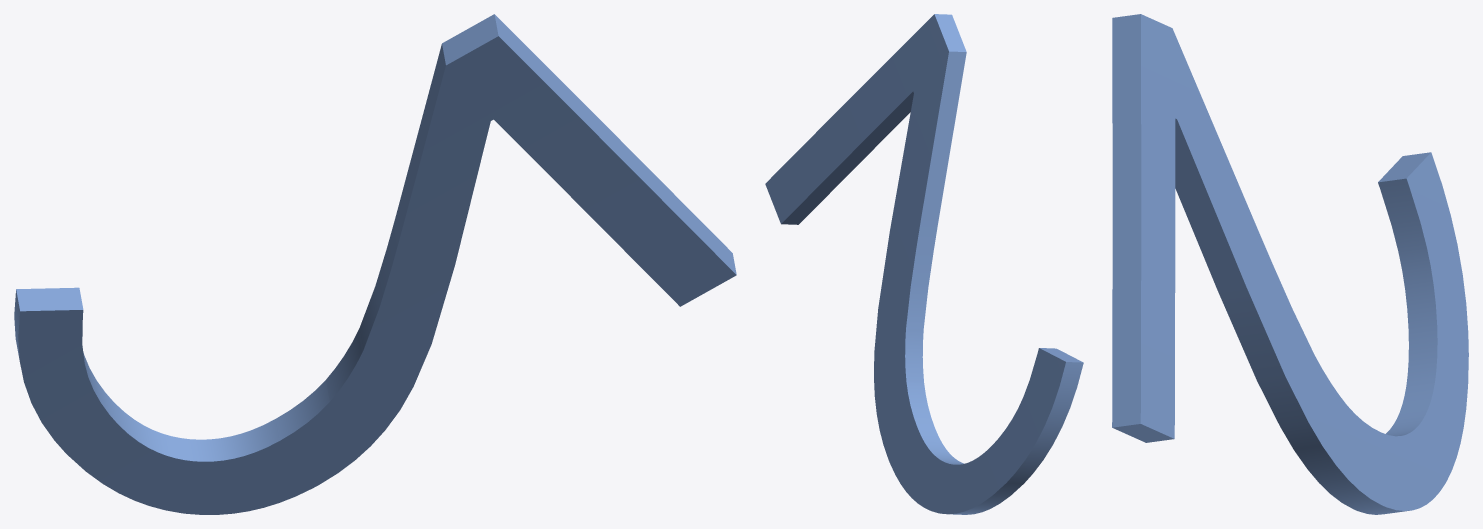
Rendered from New_Number_2.gltf.
The picture shows the model from 3 angles, left to right: view 1: azimuth 30°, elevation 25°; view 2: azimuth 150°, elevation 25°; view 3: azimuth 270°, elevation 25°; orthographic projection. The views are drawn at different scales.
Parts seen in each view (by area): view 1: Part 497; view 2: Part 497; view 3: Part 497.
Part boxes in pixels (x1,y1,x2,y2): Part 497: (14, 14, 736, 514); Part 497: (765, 14, 1083, 514); Part 497: (1112, 14, 1468, 514).
Size of the model in its own units: 0.00519 by 0.00481 by 0.00278.
